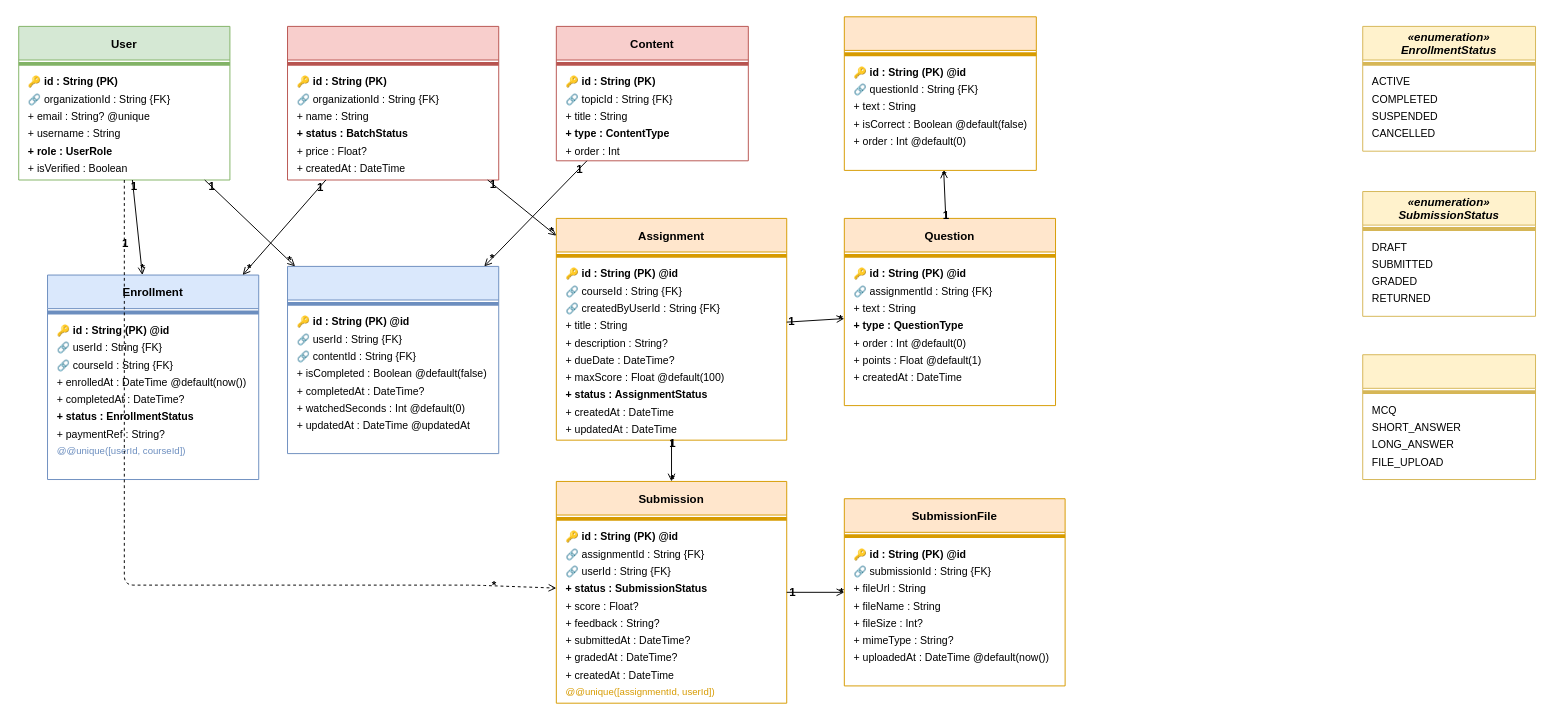
The diagram is 1553 pixels wide and 720 high, and some of its shapes have lost their labels. The shapes that lost their labels are listed below. From the top down, each one's box as (x1, y1, x2, y2) in pixels, then its label:
(287, 25, 499, 180): Course
(843, 16, 1036, 170): Choice
(287, 265, 499, 454): Progress
(1362, 354, 1536, 480): «enumeration» QuestionType
